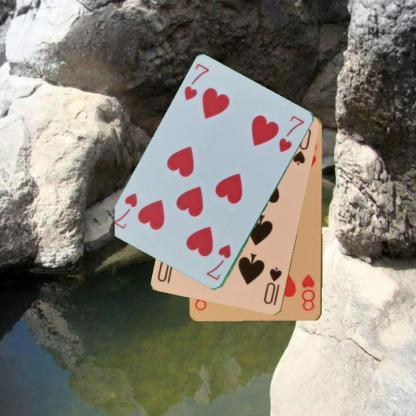10s: (261, 264, 284, 306)
7h: (203, 242, 233, 282), (182, 62, 210, 102)
8h: (299, 272, 317, 312)
